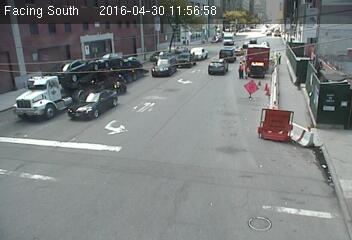neg: (128, 76, 149, 103), (181, 42, 197, 63)
pos: (233, 60, 247, 78), (273, 49, 283, 62)
